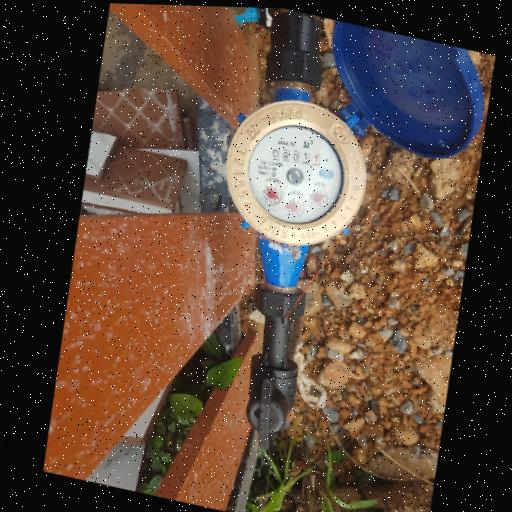0: (270, 146, 280, 160), (281, 147, 291, 161), (291, 150, 301, 163)
1: (299, 150, 311, 165), (311, 152, 321, 166)
border_water_meter_number: (267, 140, 325, 173)
